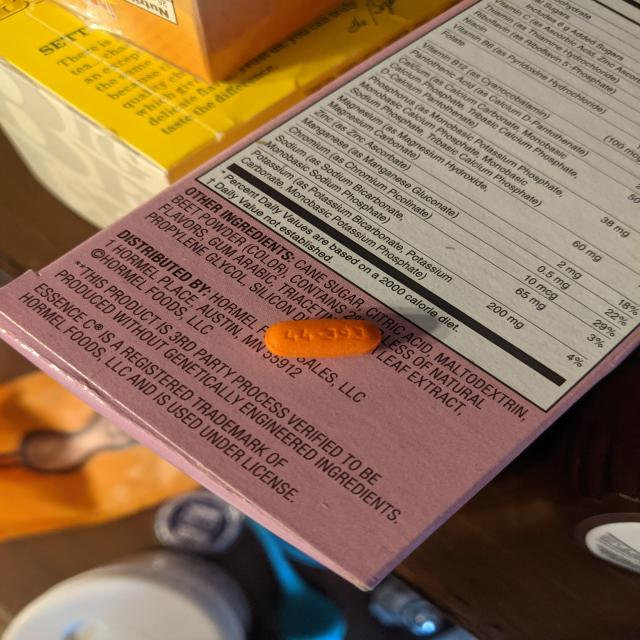non-organic waste: (264, 317, 382, 359)
